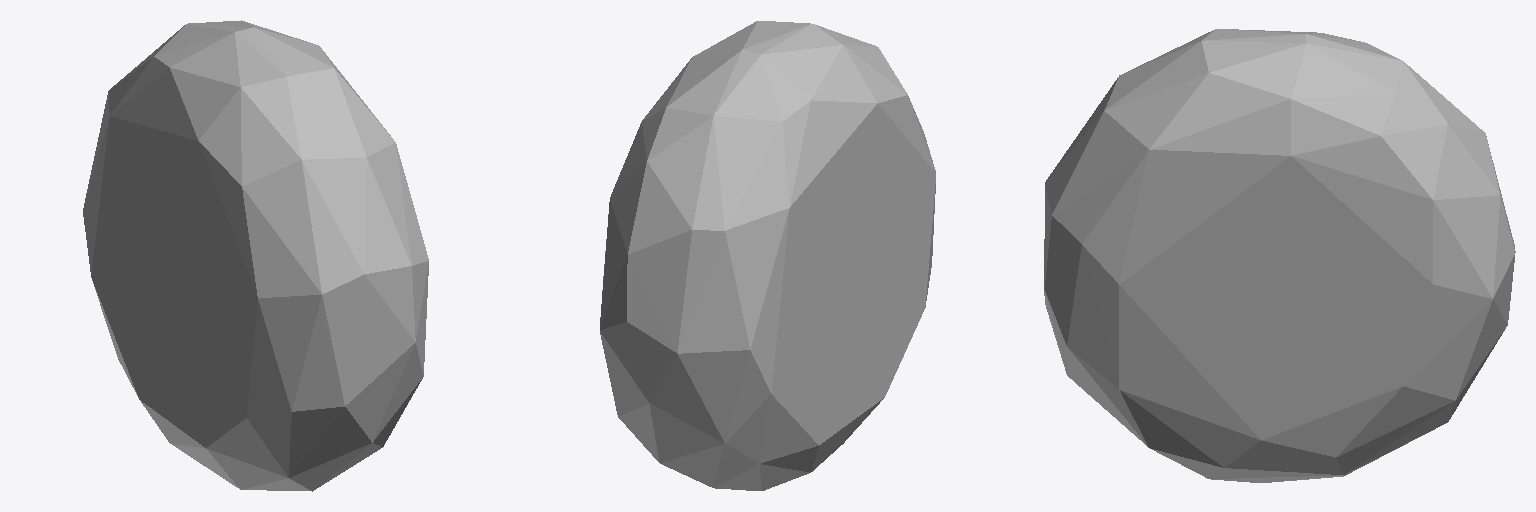
The robot description file, URDF, robot "root":
<robot name="root">
  <link name="link_7cde0fe08897826bc8635ea1c31dd83b_convex_piece_0">
    <inertial>
      <origin rpy="0 0 0" xyz="0 0 0"/>
      <mass value="2.10E-05"/>
      <inertia ixx="4.76E-09" ixy="9.56E-14" ixz="-2.03E-12" iyy="2.94E-09" iyz="1.65E-12" izz="2.91E-09"/>
    </inertial>
    <visual>
      <origin rpy="0 0 0" xyz="0 0 0"/>
      <geometry>
        <mesh filename="7cde0fe08897826bc8635ea1c31dd83b_convex_piece_0.obj" scale="1.0000E+00"/>
      </geometry>
      <material name="">
        <color rgba="7.50E-01 7.50E-01 7.50E-01 1"/>
      </material>
    </visual>
    <collision>
      <origin rpy="0 0 0" xyz="0 0 0"/>
      <geometry>
        <mesh filename="7cde0fe08897826bc8635ea1c31dd83b_convex_piece_0.obj" scale="1.0000E+00"/>
      </geometry>
    </collision>
  </link>
</robot>

--- What the picture shows (computed from the rendered views, not written in the file) ---
Views: 3 orthographic renders of the robot side by side, from view 1: azimuth 30°, elevation 25°; view 2: azimuth 150°, elevation 25°; view 3: azimuth 270°, elevation 25°.
Model root with 1 links and 0 joints (none), rooted at link_7cde0fe08897826bc8635ea1c31dd83b_convex_piece_0, posed all joints at 0.
Visible links, largest first — view 1: link_7cde0fe08897826bc8635ea1c31dd83b_convex_piece_0; view 2: link_7cde0fe08897826bc8635ea1c31dd83b_convex_piece_0; view 3: link_7cde0fe08897826bc8635ea1c31dd83b_convex_piece_0.
Boxes of the visible links, x1=… form: link_7cde0fe08897826bc8635ea1c31dd83b_convex_piece_0: x1=83, y1=20, x2=428, y2=491; link_7cde0fe08897826bc8635ea1c31dd83b_convex_piece_0: x1=600, y1=21, x2=935, y2=490; link_7cde0fe08897826bc8635ea1c31dd83b_convex_piece_0: x1=1044, y1=29, x2=1515, y2=482.
Bounding box of the posed robot: 0.0193 × 0.045 × 0.0457 m (x, y, z).
Meshes: 1 distinct files referenced, 1 mesh visuals loaded (1 OBJ).